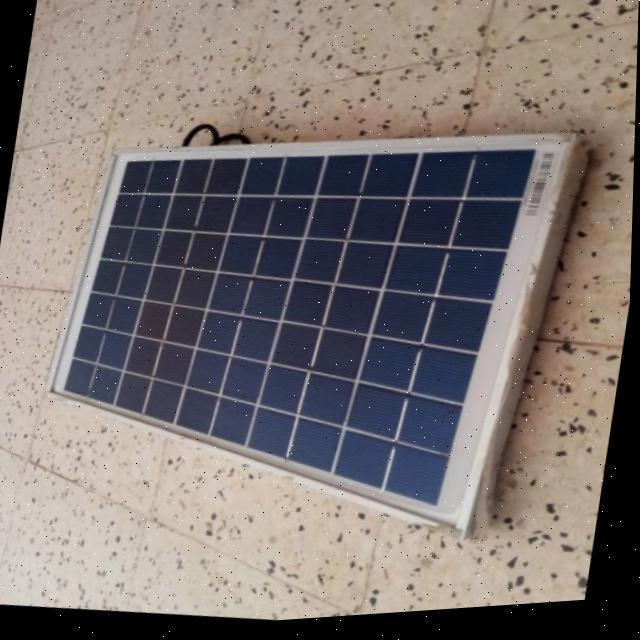Normal Solar Panel: (32, 85, 570, 572)
